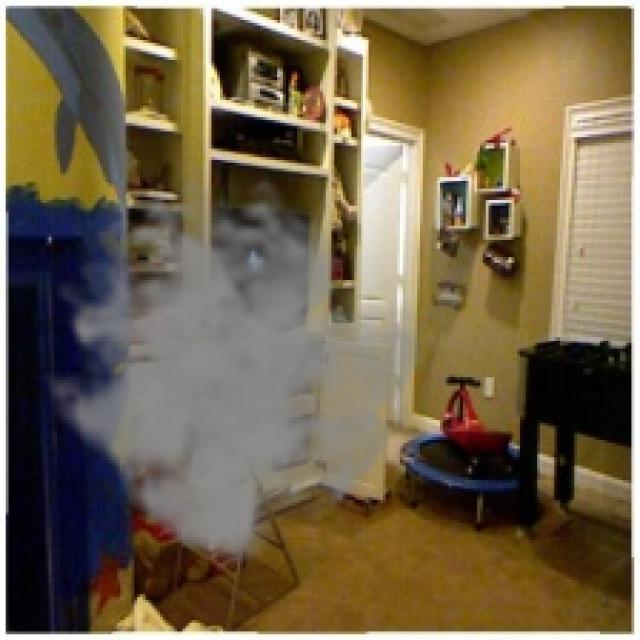smoke: (31, 174, 432, 569)
